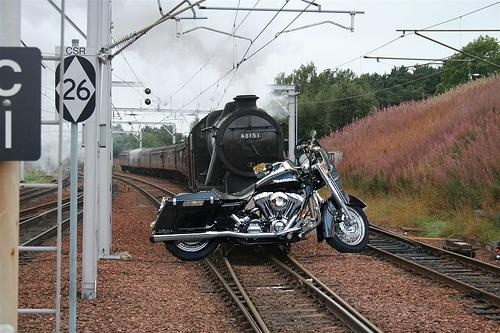tampered: (149, 131, 369, 261)
